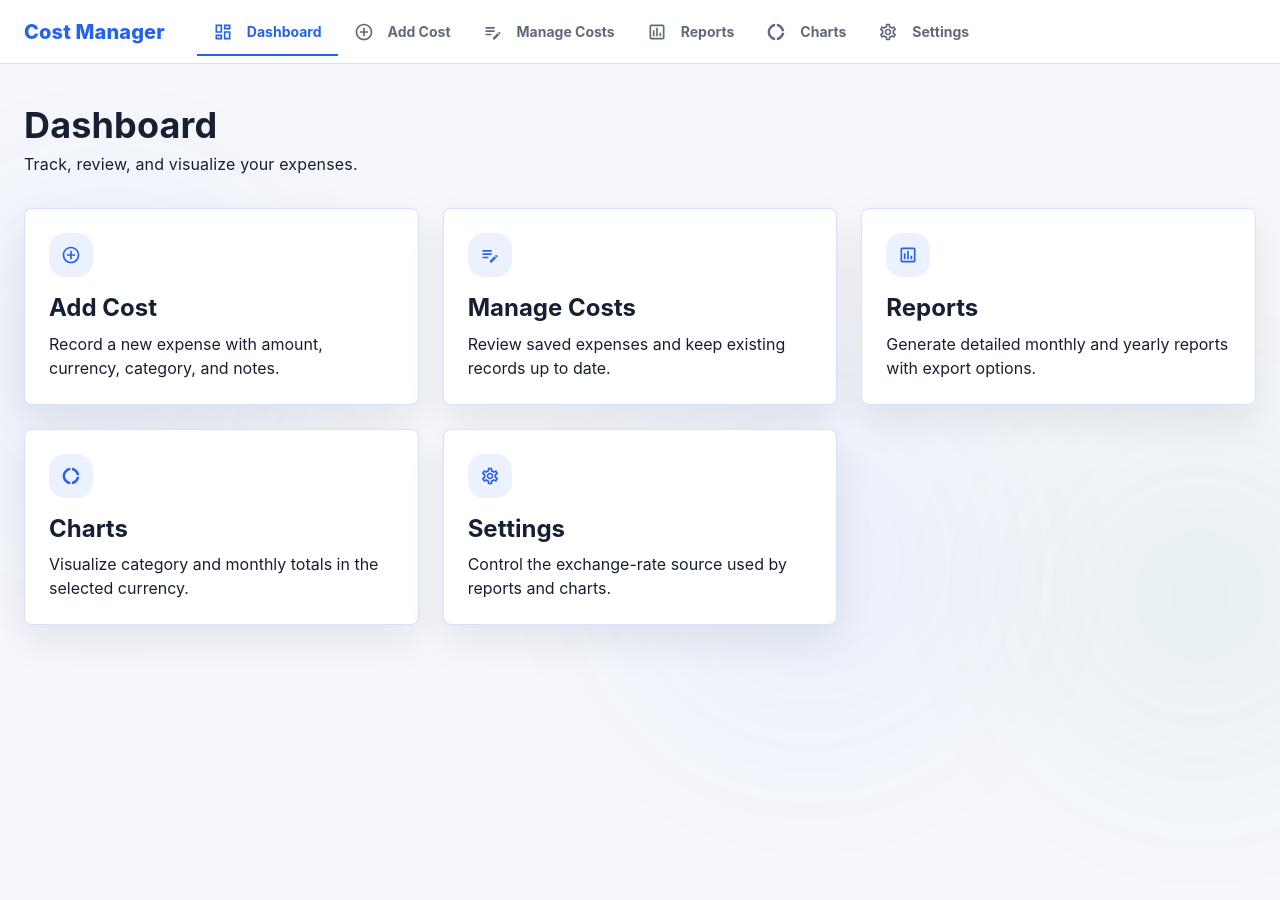
Test case: App › switches to the Manage Costs view without reloading
Click the tab "Manage Costs". click: [549, 32]
box: [466,8,631,56]
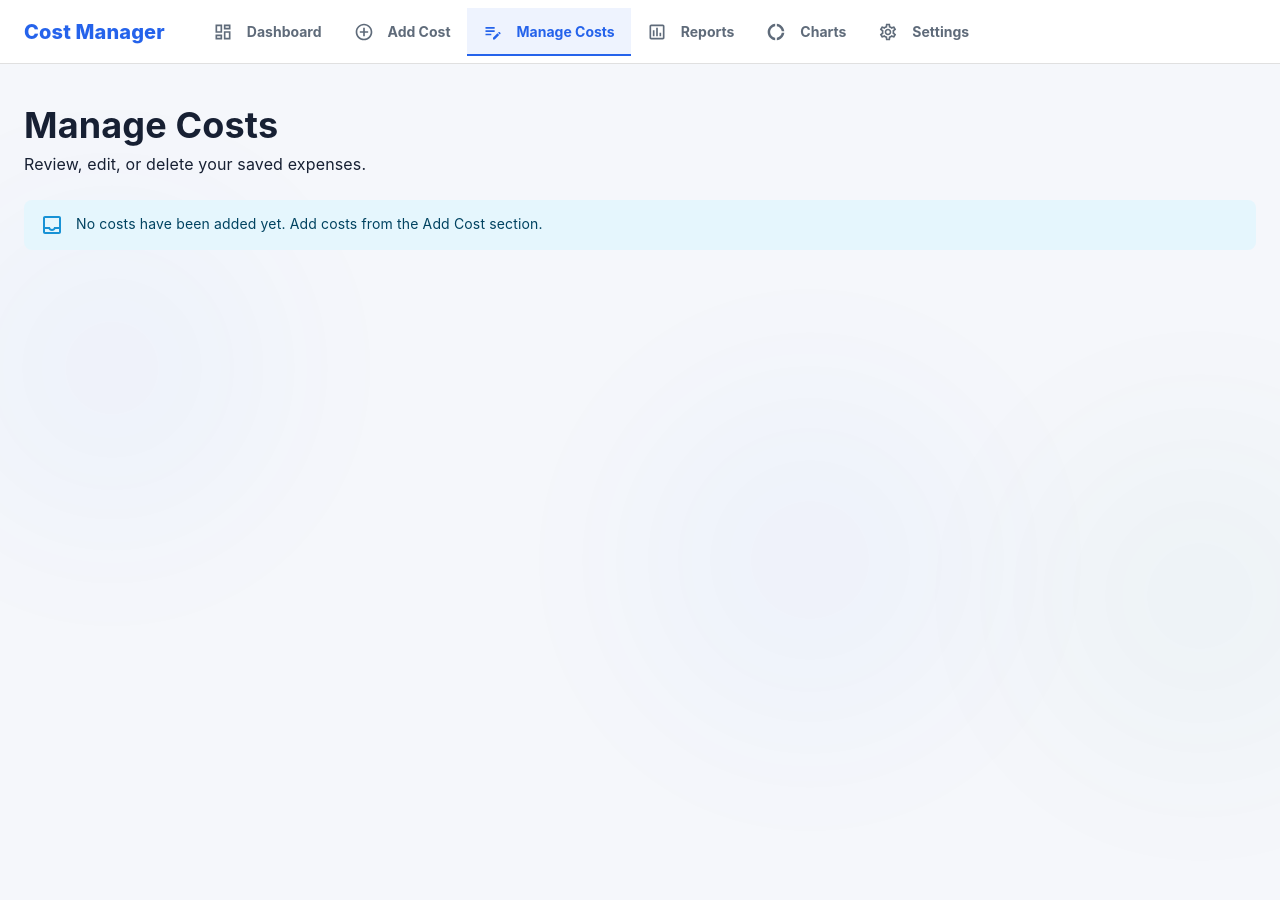
Now the heading "Manage Costs" is shown, box [24,103,278,147]
Now the text "Review, edit, or delete your saved expenses." is shown, box [24,152,366,176]
